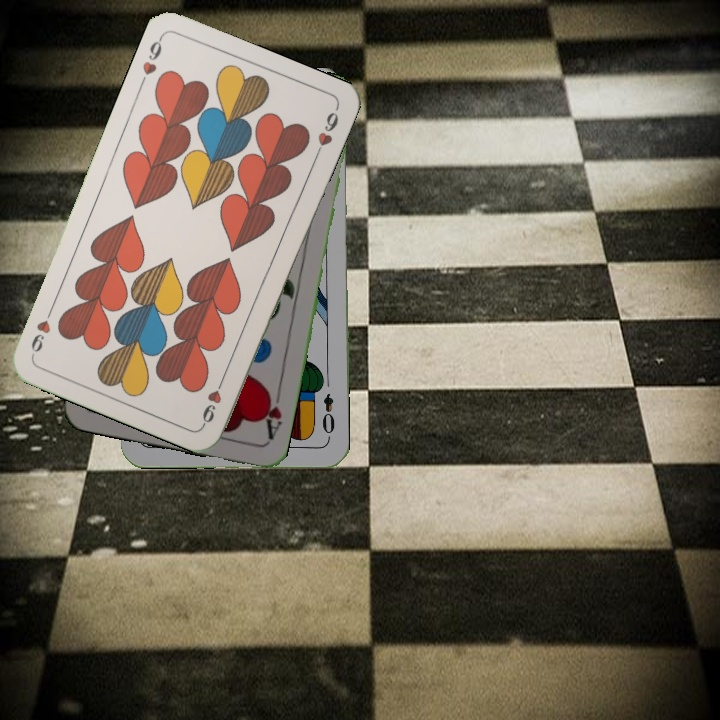EO: (319, 389, 338, 441)
H9: (135, 32, 165, 89), (198, 372, 228, 428)
HA: (258, 384, 285, 443)
